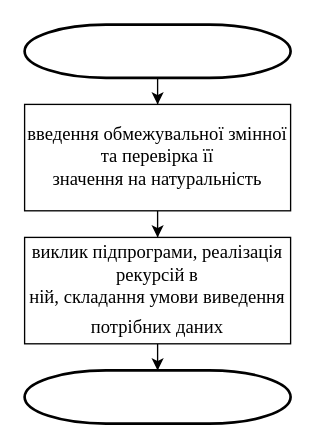
Some shapes in this 314 by 447 pixel diagram are drawn without their labels. Each missing label, with the box of its shape:
кінець: (23, 368, 291, 424)
початок: (23, 23, 291, 78)
